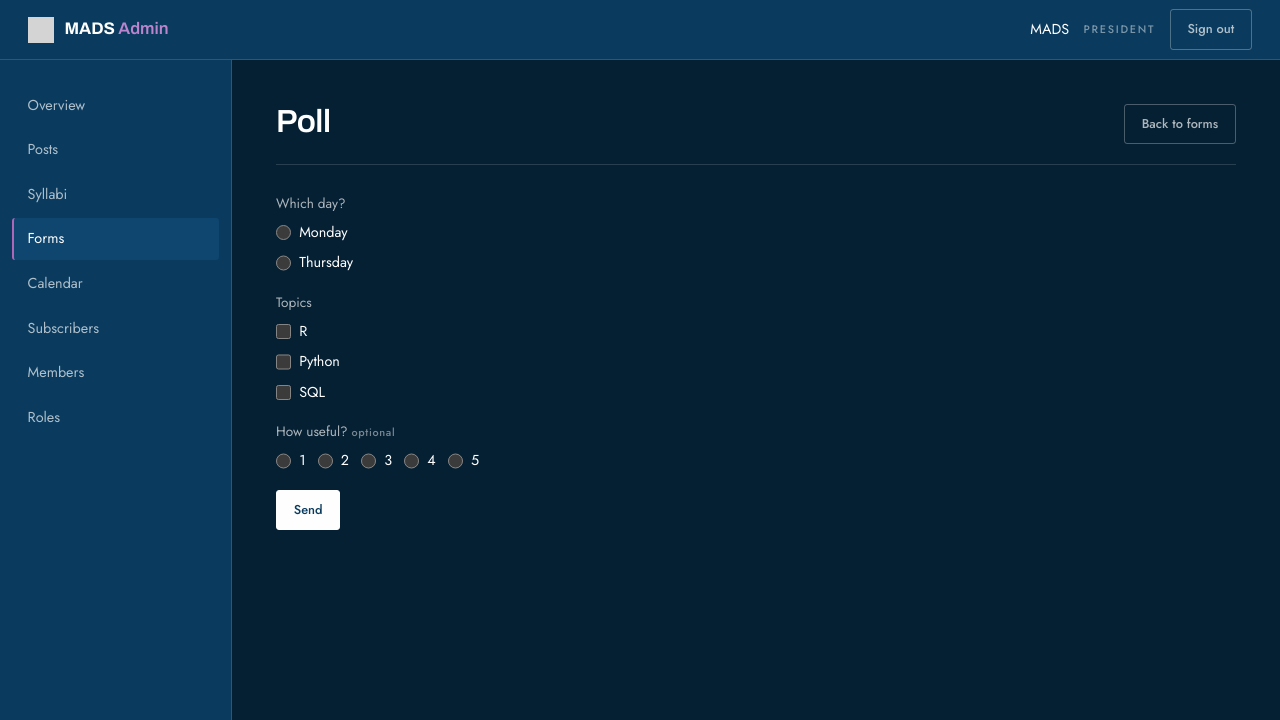
Scenario: FormFill › stores ticked checkboxes as a list and a chosen option as one answer
Step 1. Click the radio button labelled "Thursday" → (284, 263), box [276,255,291,271]
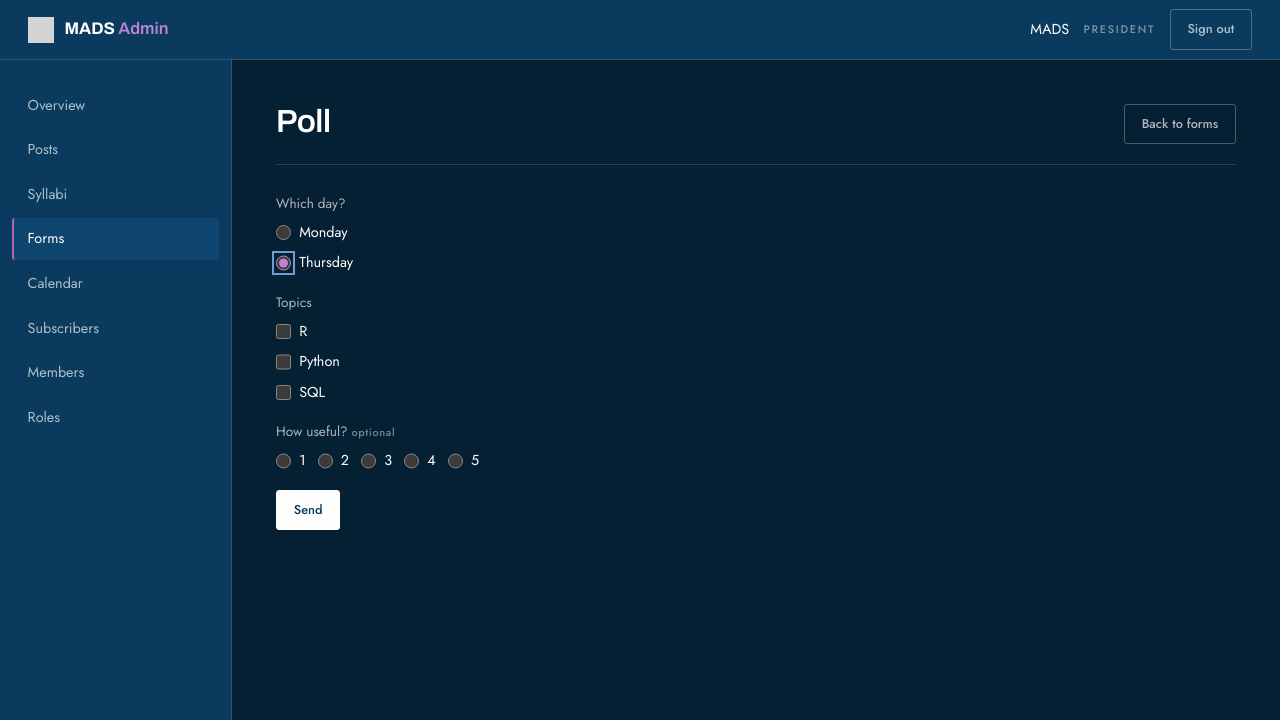
Step 2. Click the checkbox labelled "R" → (284, 332), box [276,324,291,339]
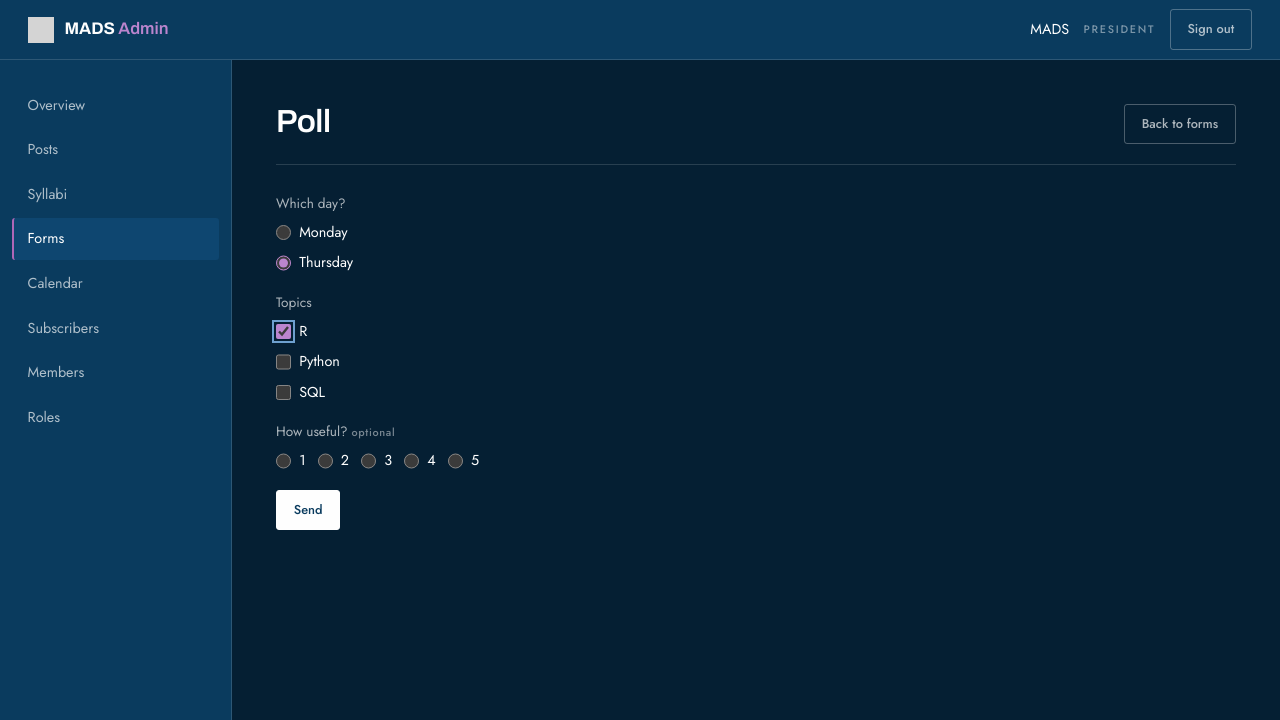
Step 3. Click the checkbox labelled "SQL" → (284, 392), box [276,385,291,400]
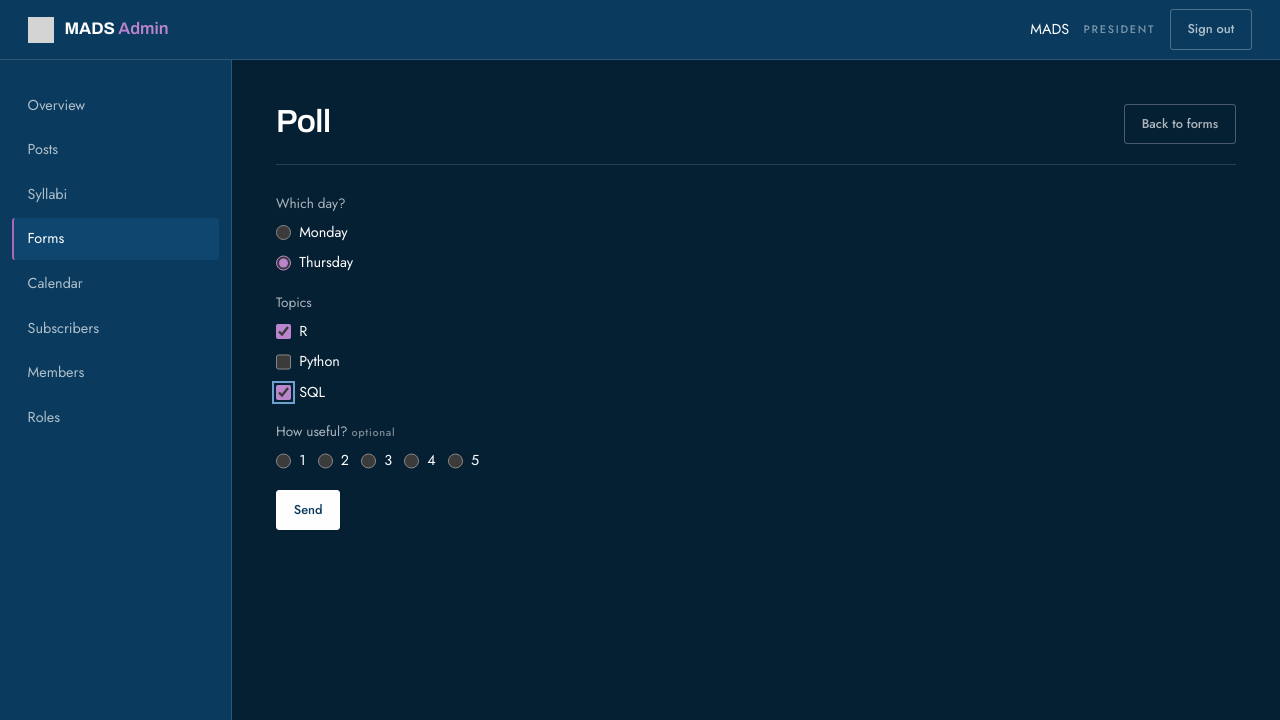
Step 4. Click the radio button labelled "4" → (412, 461), box [404,453,419,469]
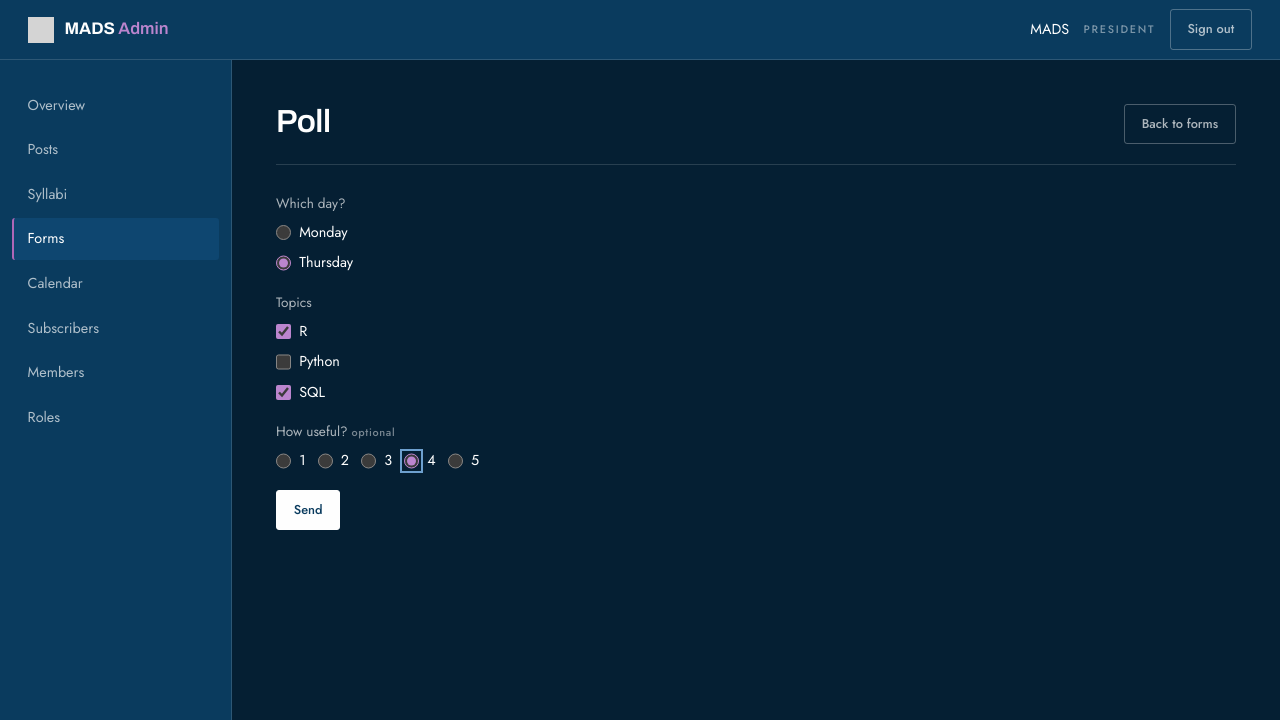
Step 5. Click the button "Send" → (308, 510), box [276,490,340,530]
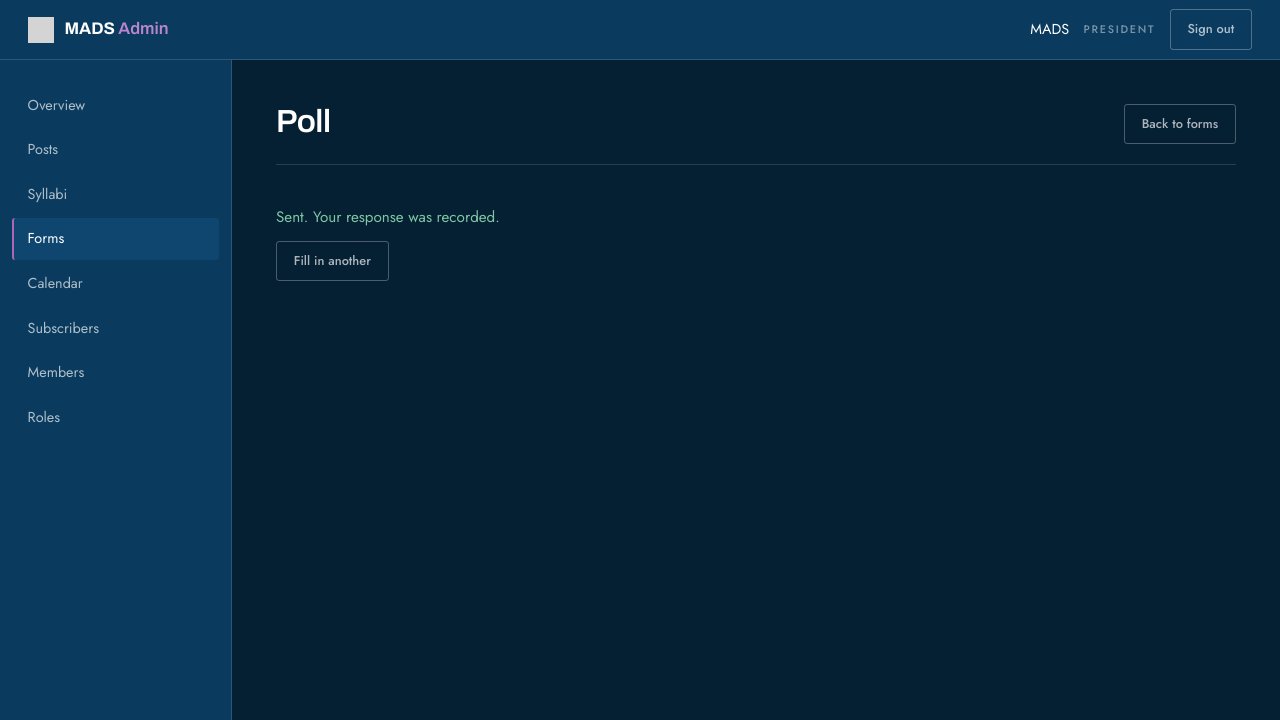
expect the message shows "Sent": met, box [276,206,500,228]
